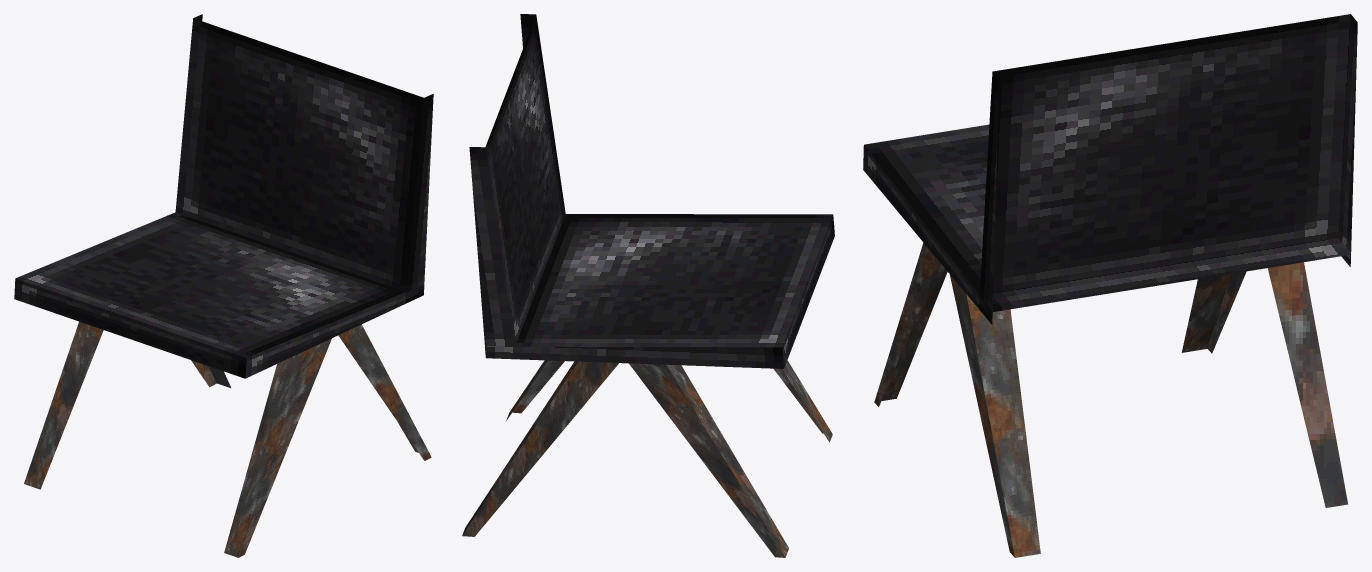
File: primary_097.glb
3 views of the same model, side by side, from view 1: azimuth 30°, elevation 25°; view 2: azimuth 150°, elevation 25°; view 3: azimuth 270°, elevation 25° (orthographic). The views are drawn at different scales.
Parts seen in each view (by area): view 1: Object; view 2: Object; view 3: Object.
Boxes of the visible parts, box(x1,y1,x2,y2) form: Object: box(14, 14, 433, 557); Object: box(462, 14, 834, 557); Object: box(863, 14, 1357, 557).
Bounding box in the file's own units: 1.1 × 1.16 × 1.09.
Materials: 2 (2 with a texture image).
